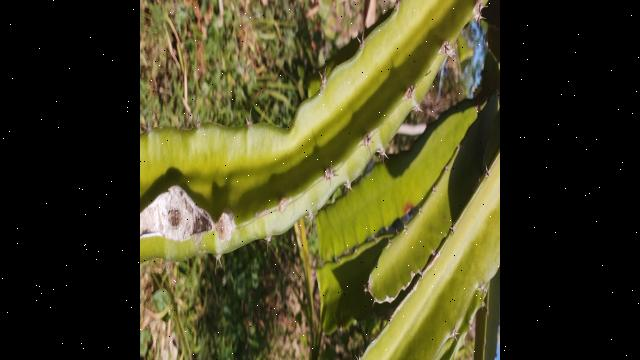stemcanker: (395, 198, 417, 220)
